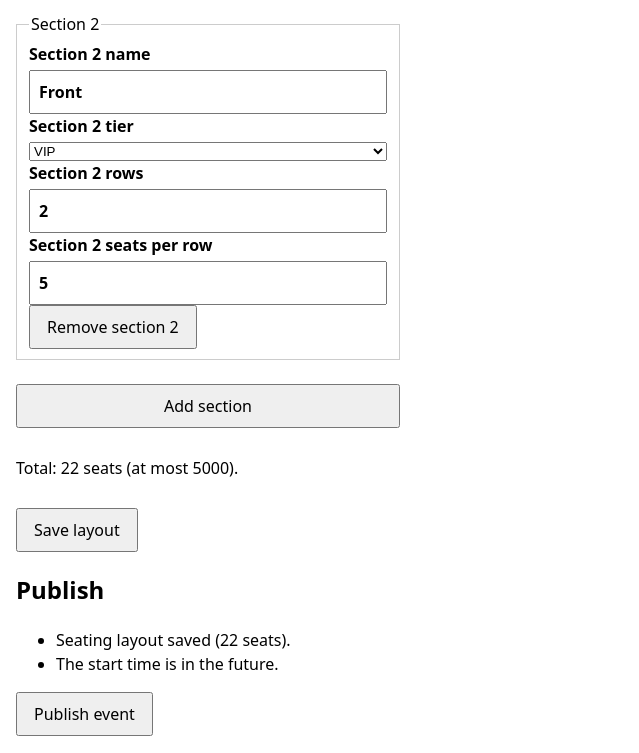
Test: publishing › asks for confirmation, and cancelling sends nothing
The image size is (639, 753).
Later steps or results of the test are not shown.
(page scrolled)
Step 1. Click the button "Publish event" → (84, 714), box [16,692,153,736]
(page scrolled)
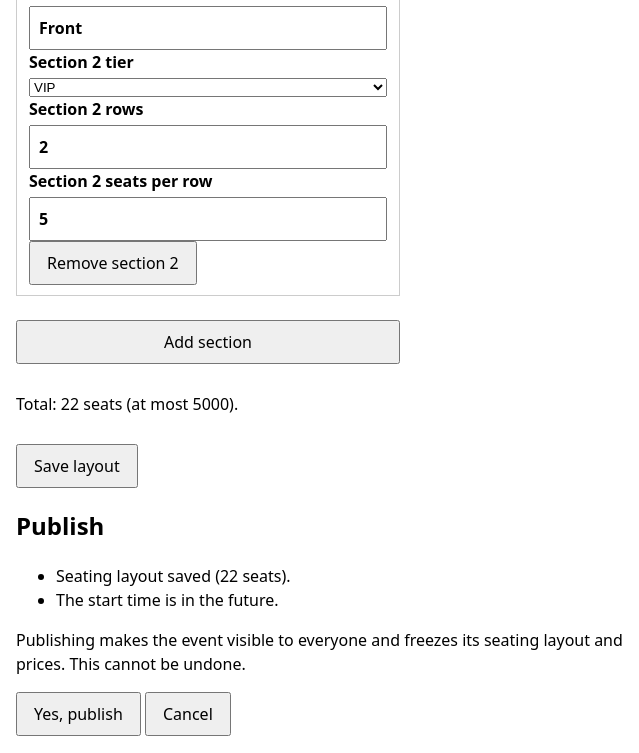
Expected: the element named "Confirm publishing" shows "cannot be undone", [16,629,623,675]
